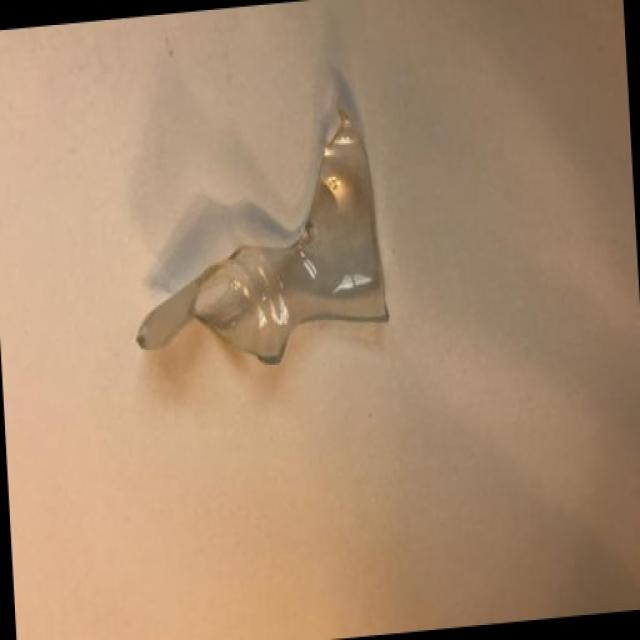vidrio: (112, 74, 479, 424)
